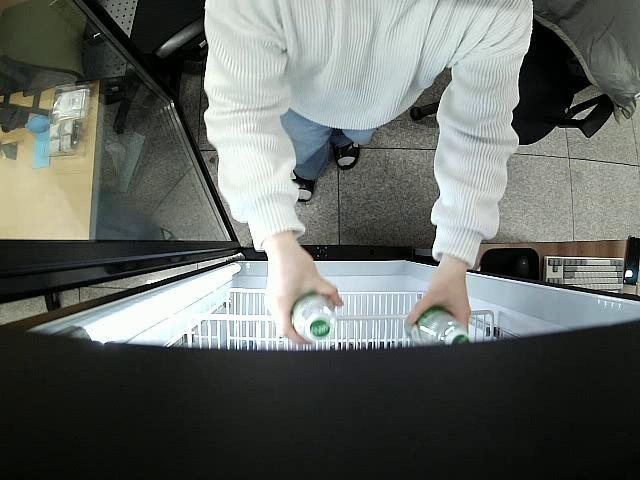18_trevi: (288, 290, 338, 343), (407, 305, 470, 346)
